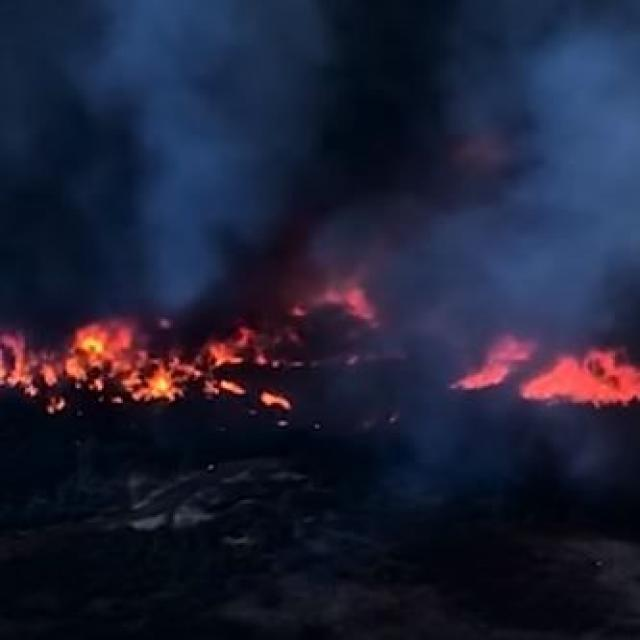Fire: (0, 310, 264, 418), (519, 343, 640, 416), (452, 340, 534, 401), (300, 276, 390, 330)
Smoke: (7, 0, 635, 329)
